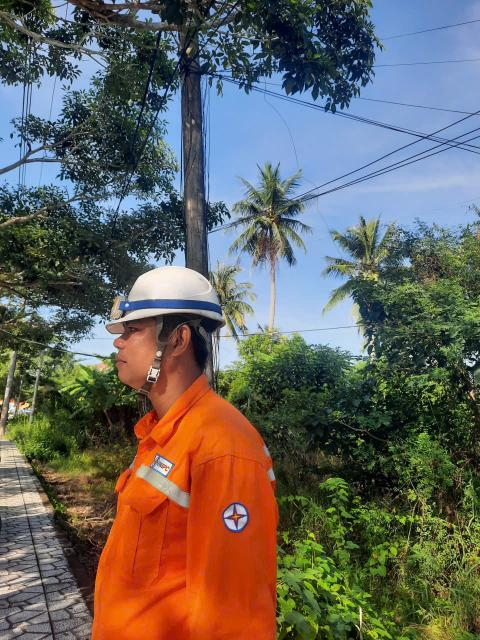helmet: (81, 258, 235, 339)
